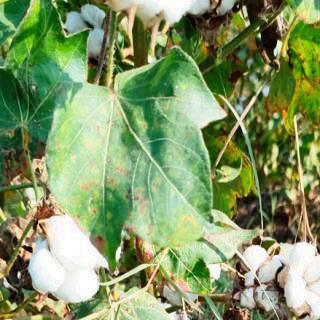blight: (36, 46, 243, 267)
